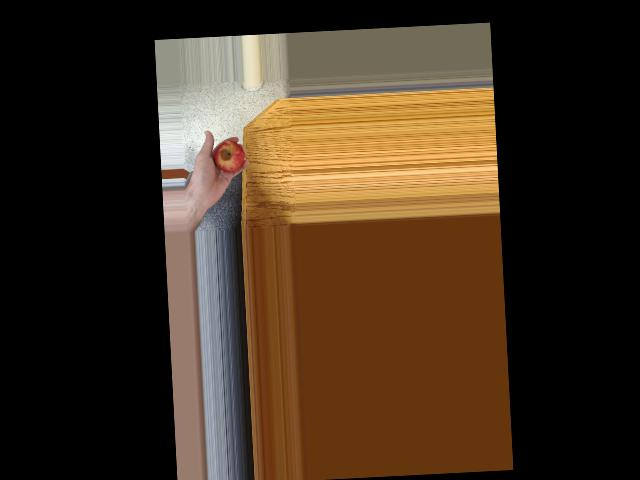apple: (209, 138, 244, 177)
